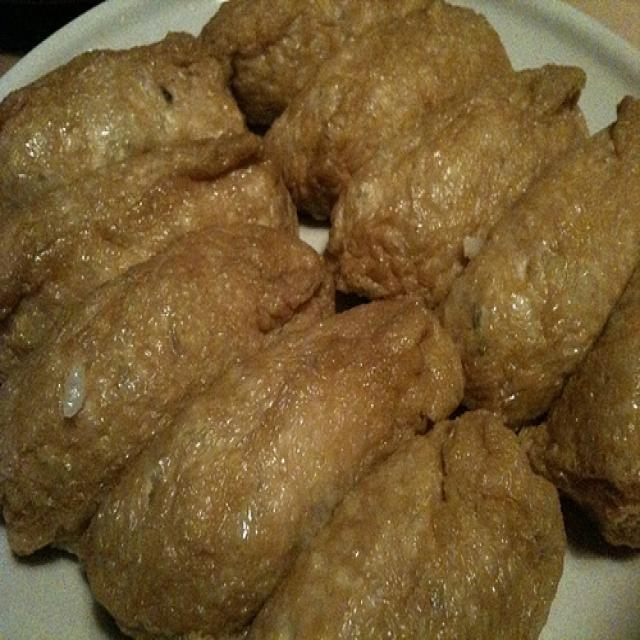寿司卷物: (8, 7, 626, 633)
